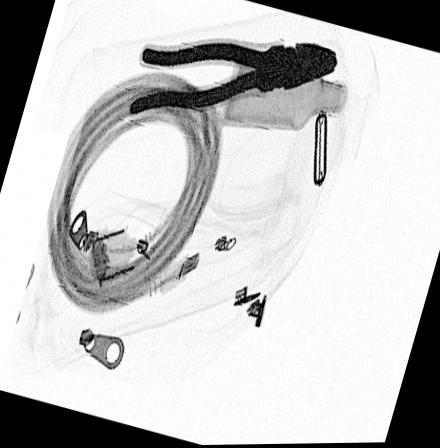Pliers: (125, 38, 340, 117)
